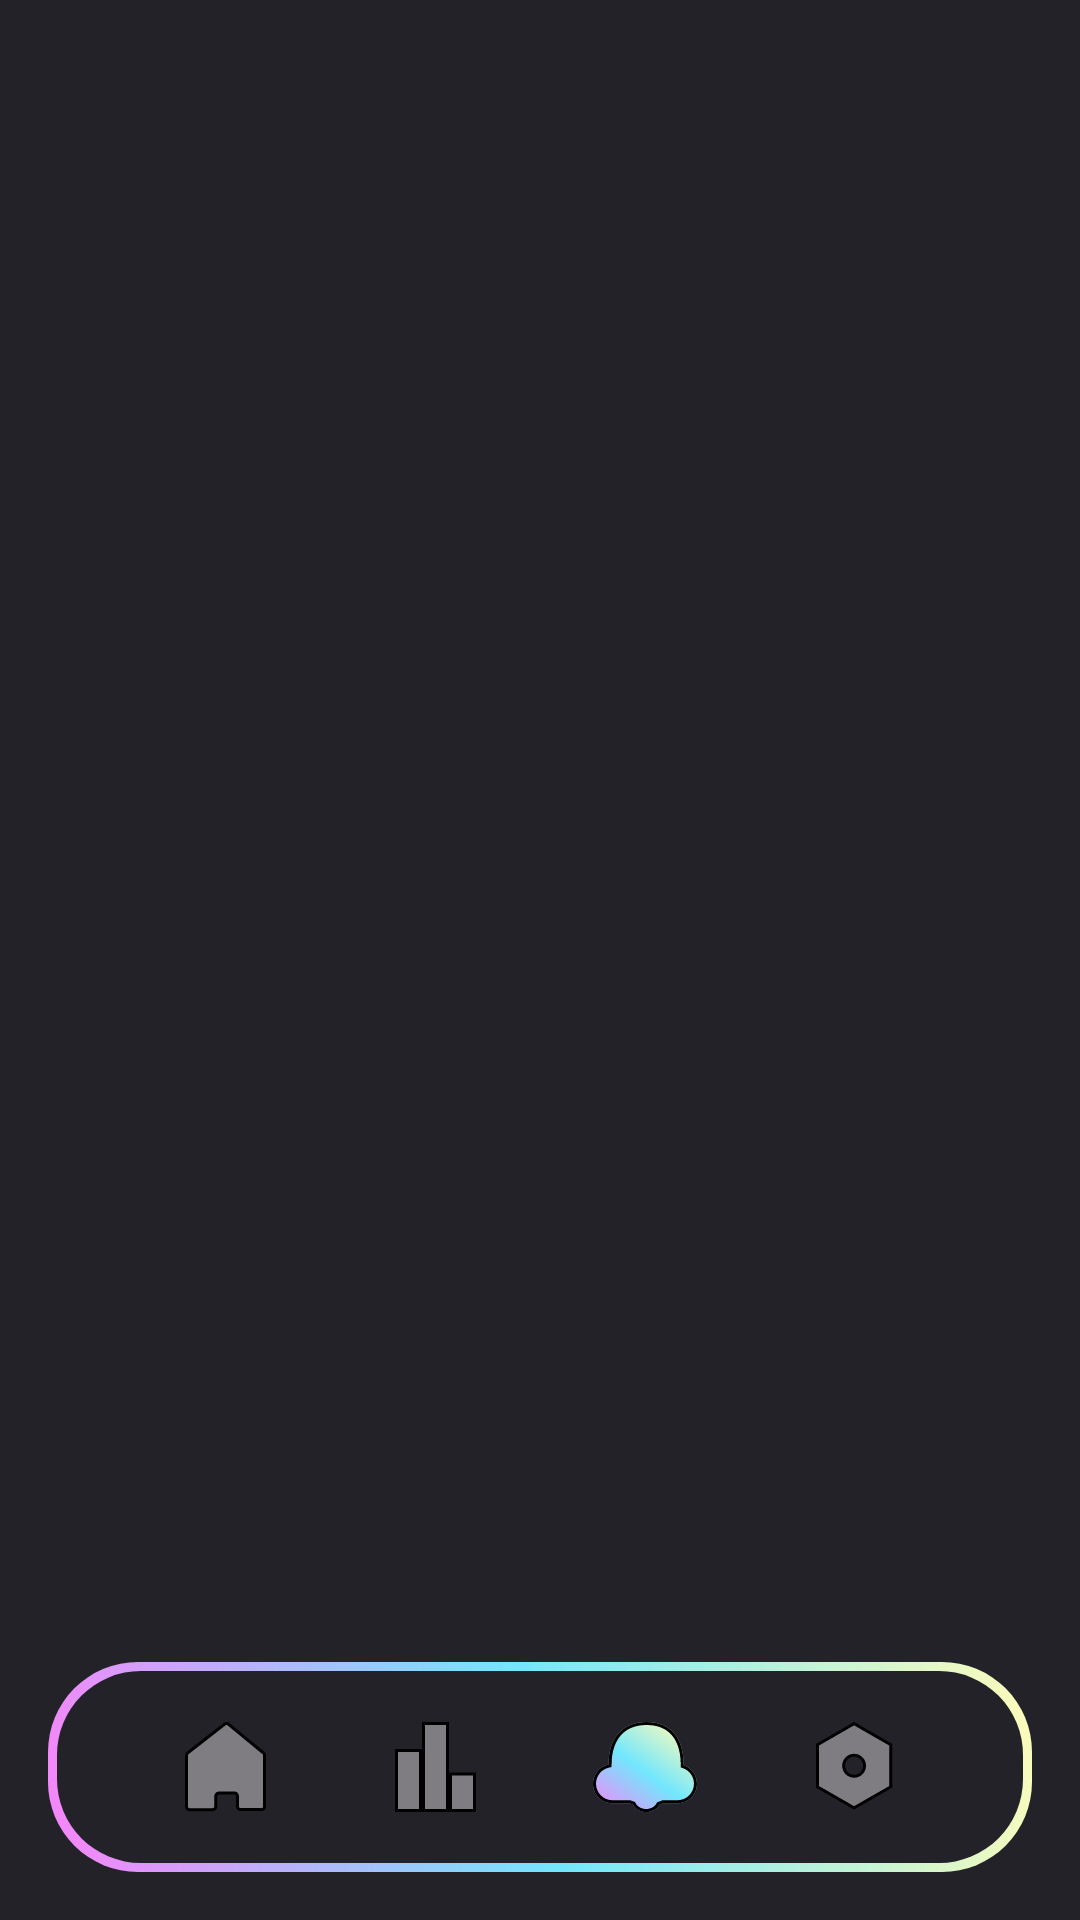

Screen size 1080*1920. Icon name, then its center in pixels as [x,y]:
Home: [225,1766]
Notifications: [645,1767]
Settings: [854,1765]
Stats: [435,1767]
